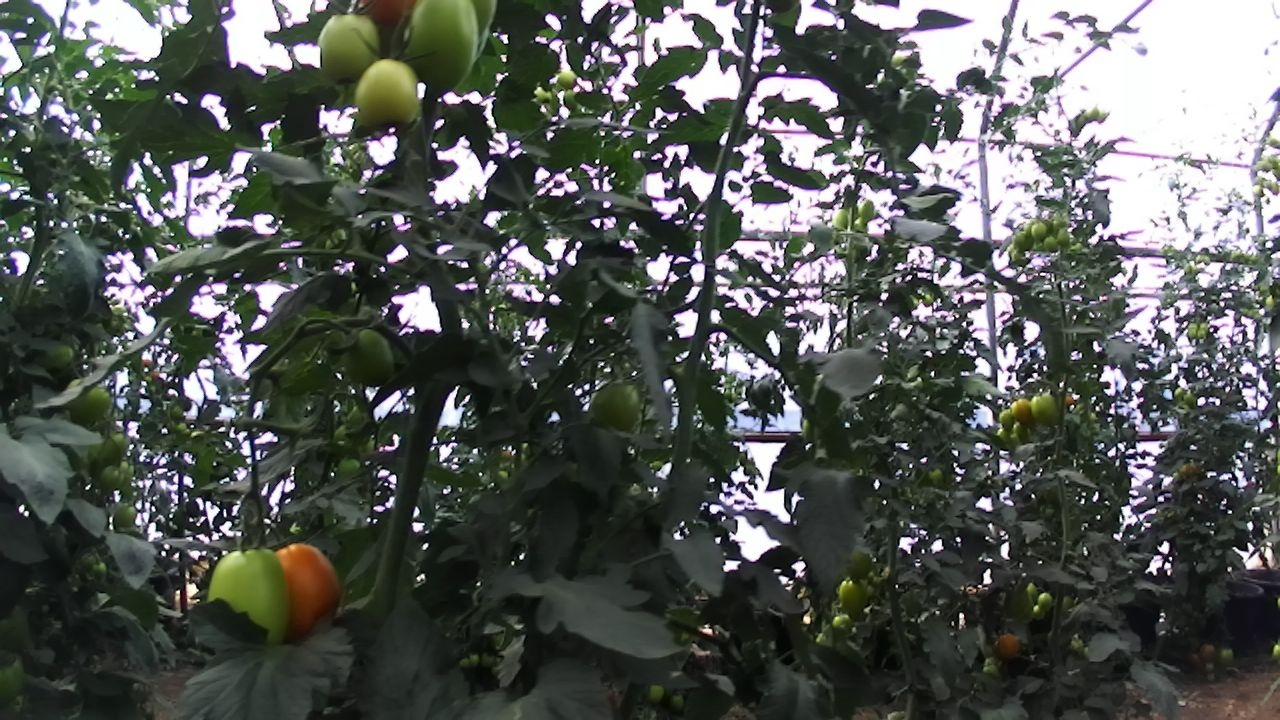tomato: (198, 530, 306, 666), (256, 517, 355, 655), (386, 0, 499, 119), (344, 52, 439, 146), (305, 0, 391, 95), (332, 322, 410, 398), (582, 367, 653, 445), (62, 374, 119, 432), (83, 419, 140, 477), (834, 570, 876, 620), (1026, 384, 1067, 431), (105, 495, 144, 540), (1006, 392, 1042, 433), (989, 626, 1026, 665), (824, 606, 861, 640), (992, 401, 1024, 437), (96, 460, 127, 497), (528, 79, 560, 111), (552, 62, 583, 95), (639, 678, 671, 708), (826, 201, 853, 236), (1008, 226, 1039, 256), (854, 192, 881, 226), (1195, 638, 1221, 665), (1213, 642, 1238, 670), (1033, 588, 1058, 614), (1027, 599, 1050, 626), (1052, 224, 1075, 251), (1040, 231, 1063, 256), (1028, 218, 1051, 242)
